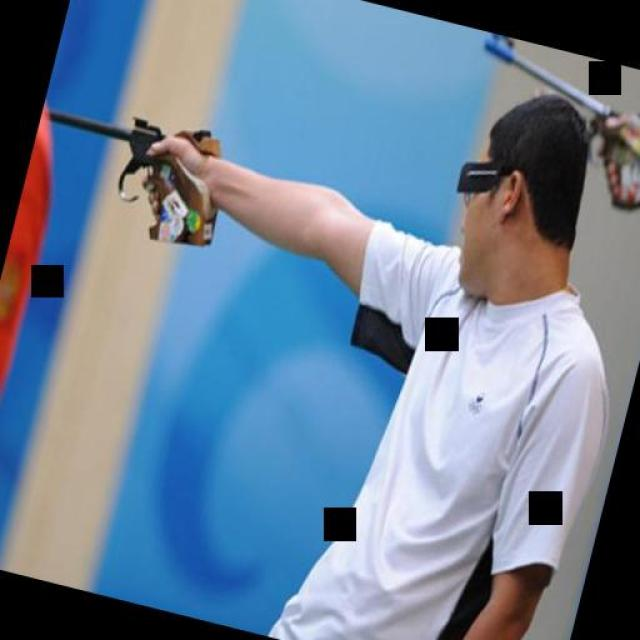gun: (446, 29, 640, 212), (20, 90, 239, 250)
